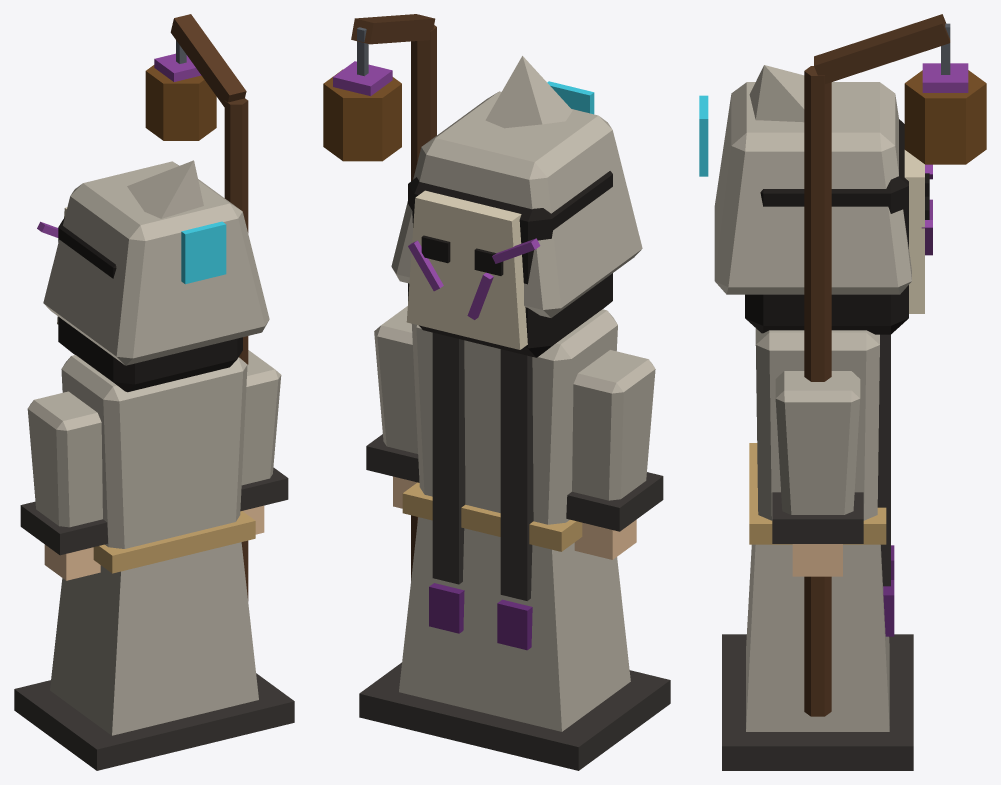
The model's file is CH_AshenOracle.fbx.
3 renders of one model, left to right at view 1: azimuth 30°, elevation 25°; view 2: azimuth 150°, elevation 25°; view 3: azimuth 270°, elevation 25°, orthographic. The views are drawn at different scales.
Parts seen in each view (by area): view 1: Robe, Hood, Body, Hem, ArmL, Head, Censer, ArmR, Belt, Pole, HoodTip, Hook (+5 smaller); view 2: Robe, Hood, Body, Mask, Hem, ArmL, StoleL, StoleR, Head, Censer, ArmR, HoodTip (+12 smaller); view 3: Hood, Robe, Pole, Hem, ArmR, Body, Head, Censer, Hook, CuffR, StoleR, HoodTip (+6 smaller).
Part boxes in pixels (x1,y1,x2,y2): Robe: (50,542,258,735); Hood: (43,161,269,365); Body: (61,355,247,548); Hem: (14,673,294,770); ArmL: (27,391,102,527); Head: (58,217,242,392); Censer: (145,65,216,140); ArmR: (241,350,281,485); Belt: (93,511,255,573); Pole: (224,98,248,600); HoodTip: (127,160,203,218); Hook: (170,14,246,106); Robe: (399,517,630,731); Hood: (391,91,642,317); Body: (412,309,617,524); Mask: (406,190,527,349); Hem: (359,662,670,770); ArmL: (572,350,655,500); StoleL: (500,349,533,600); StoleR: (432,332,465,584); Head: (408,171,612,357); Censer: (323,69,401,161); ArmR: (374,306,417,453); HoodTip: (485,56,572,128); Hood: (714,82,911,294); Robe: (746,544,889,731); Pole: (804,66,831,716); Hem: (722,634,913,770); ArmR: (775,371,860,514); Body: (755,328,879,520); Head: (745,119,908,334); Censer: (904,70,986,164); Hook: (814,14,950,84); CuffR: (772,492,863,543); StoleR: (877,334,890,586); HoodTip: (749,65,804,122).
Size of the model in its own units: 0.67 by 0.63 by 1.81.
